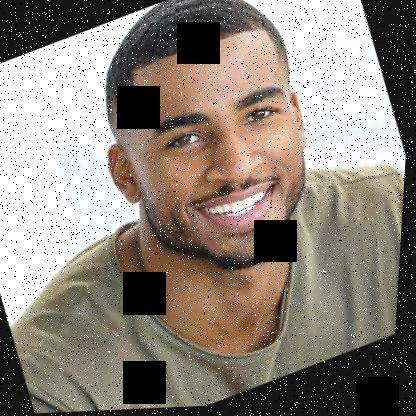Male: (75, 15, 348, 305)
